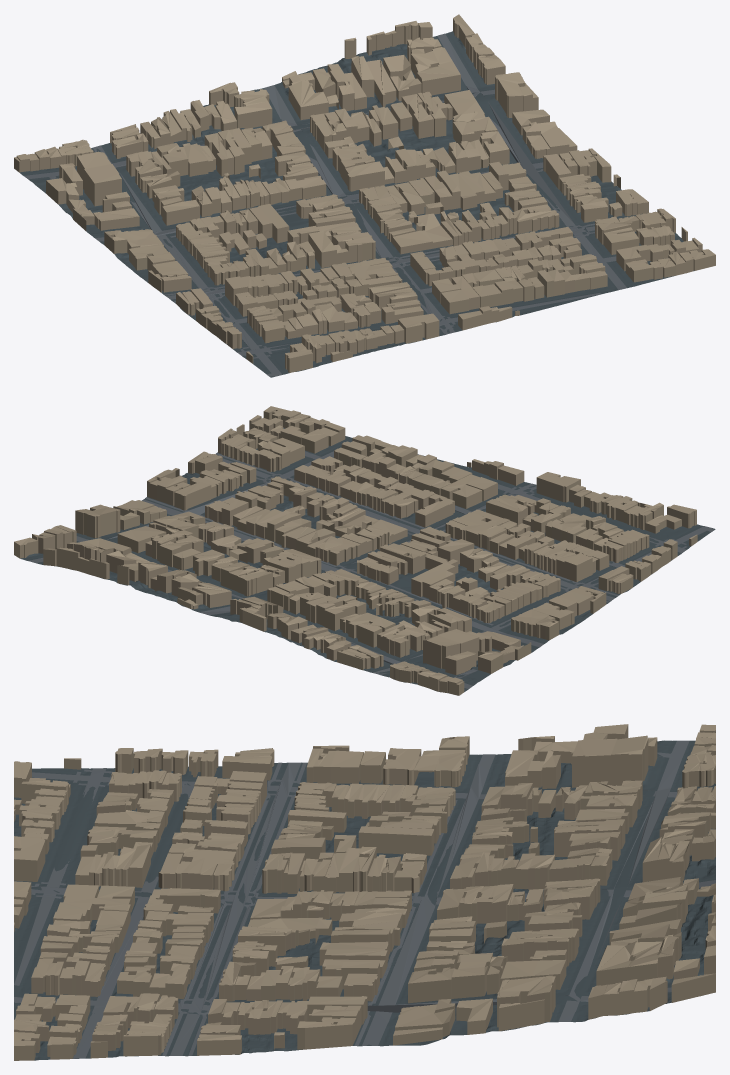
File: epsg26910-1431-10894.lod0.glb
The picture shows the model from 3 angles, top to bottom: view 1: azimuth 30°, elevation 25°; view 2: azimuth 150°, elevation 25°; view 3: azimuth 270°, elevation 25°; orthographic projection. The views are drawn at different scales.
Visible parts, largest first — view 1: epsg26910-1431-10894-lod0; view 2: epsg26910-1431-10894-lod0; view 3: epsg26910-1431-10894-lod0.
Part boxes in pixels (x1,y1,x2,y2): epsg26910-1431-10894-lod0: [14, 14, 715, 377]; epsg26910-1431-10894-lod0: [14, 406, 715, 695]; epsg26910-1431-10894-lod0: [14, 724, 715, 1060].
Size of the model in its own units: 384 by 59.27 by 384.
